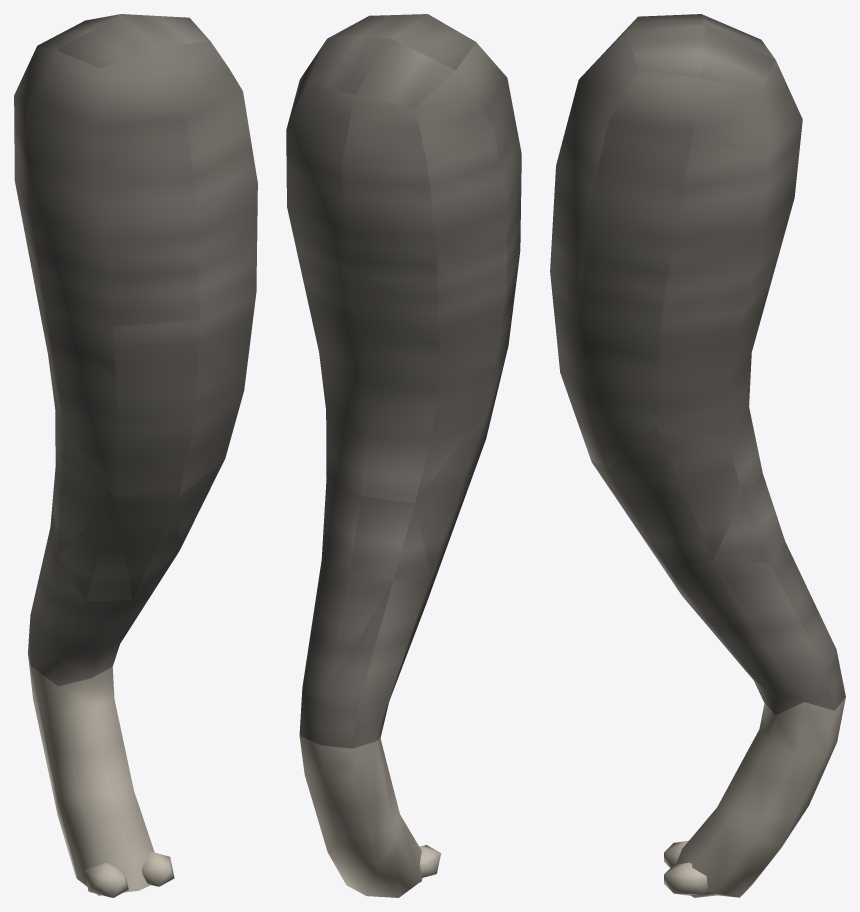
The model's file is SM_Wolf_LegB.fbx.
3 views of the same model, side by side, from view 1: azimuth 30°, elevation 25°; view 2: azimuth 150°, elevation 25°; view 3: azimuth 270°, elevation 25° (orthographic). The views are drawn at different scales.
Visible parts, largest first — view 1: SM_Wolf_LegB; view 2: SM_Wolf_LegB; view 3: SM_Wolf_LegB.
Boxes of the visible parts, box(x1,y1,x2,y2) form: SM_Wolf_LegB: box(14, 14, 257, 897); SM_Wolf_LegB: box(286, 14, 521, 897); SM_Wolf_LegB: box(550, 14, 845, 897).
Bounding box in the file's own units: 0.7456 × 2.91 × 0.9106.
1 material, 1 textured.
